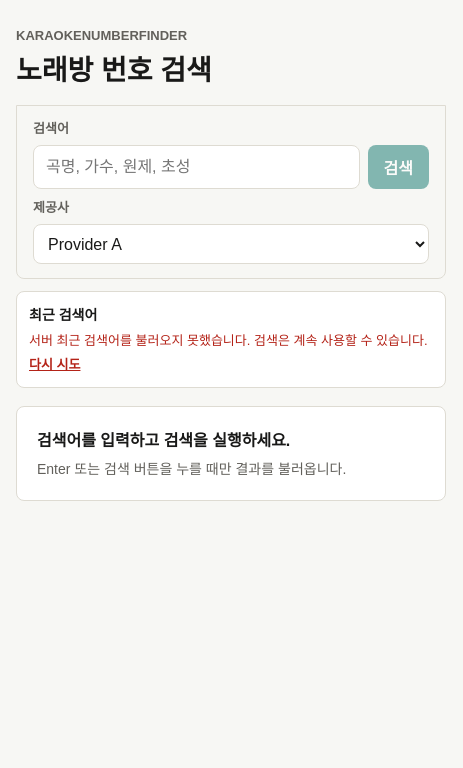
it: MobileSearchPage favorites › rolls an optimistic add back after a network failure without touching search
Check: the dropdown labelled "제공사" is shown, box [33,224,429,264]
In the search field labelled "검색어": (196, 167) [33,145,360,189], type "sample"
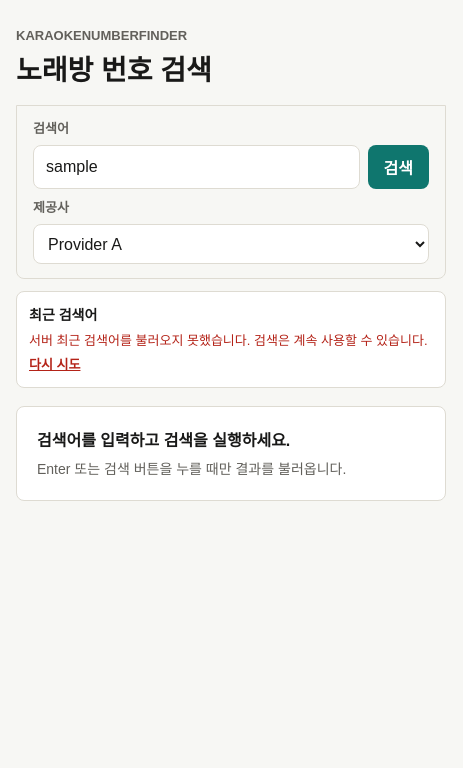
Submit the form, box [33,118,429,264]
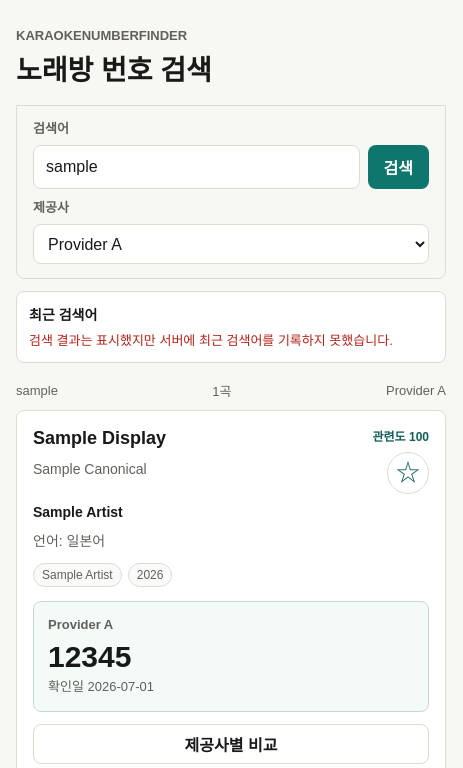
Check: the heading "Sample Display" is shown, box [33,428,166,448]
Click the button named "Sample Display 즐겨찾기에 추가": (408, 473) [387,452,429,494]
(page scrolled)
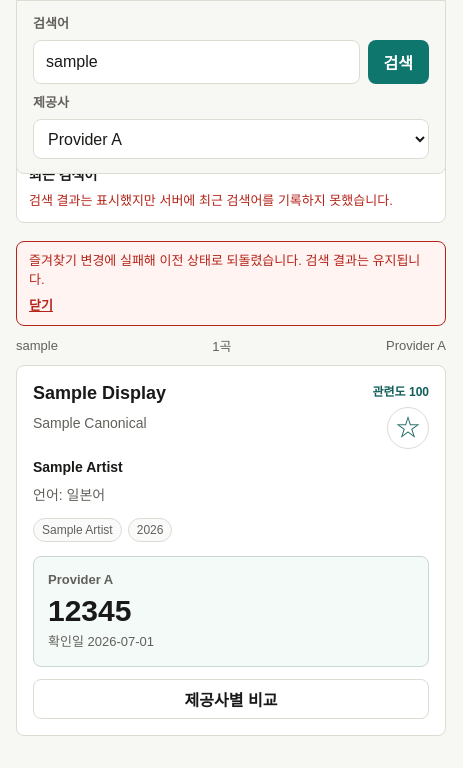
Check: the button named "Sample Display 즐겨찾기에 추가" is shown, box [387,407,429,449]
Check: the heading "Sample Display" is shown, box [33,383,166,403]
Check: the message shows "이전 상태로 되돌렸습니다", box [29,253,420,287]
Click the button "제공사별 비교": (231, 699) [33,679,429,719]
(page scrolled)
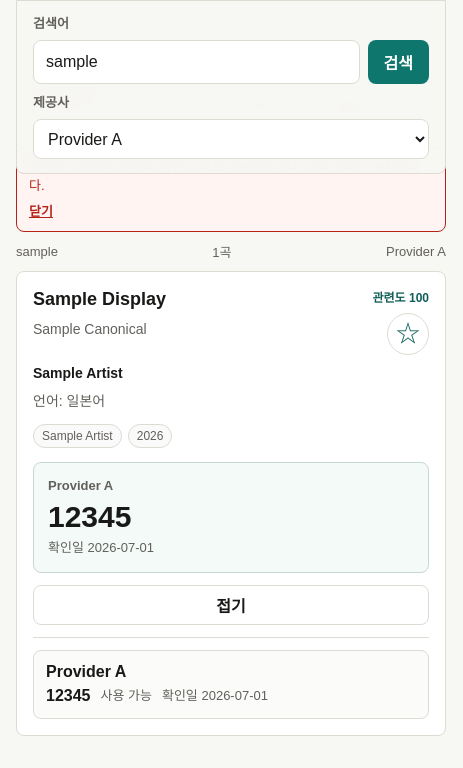
Check: the element named "제공사별 번호 비교" is shown, box [33,637,429,718]
